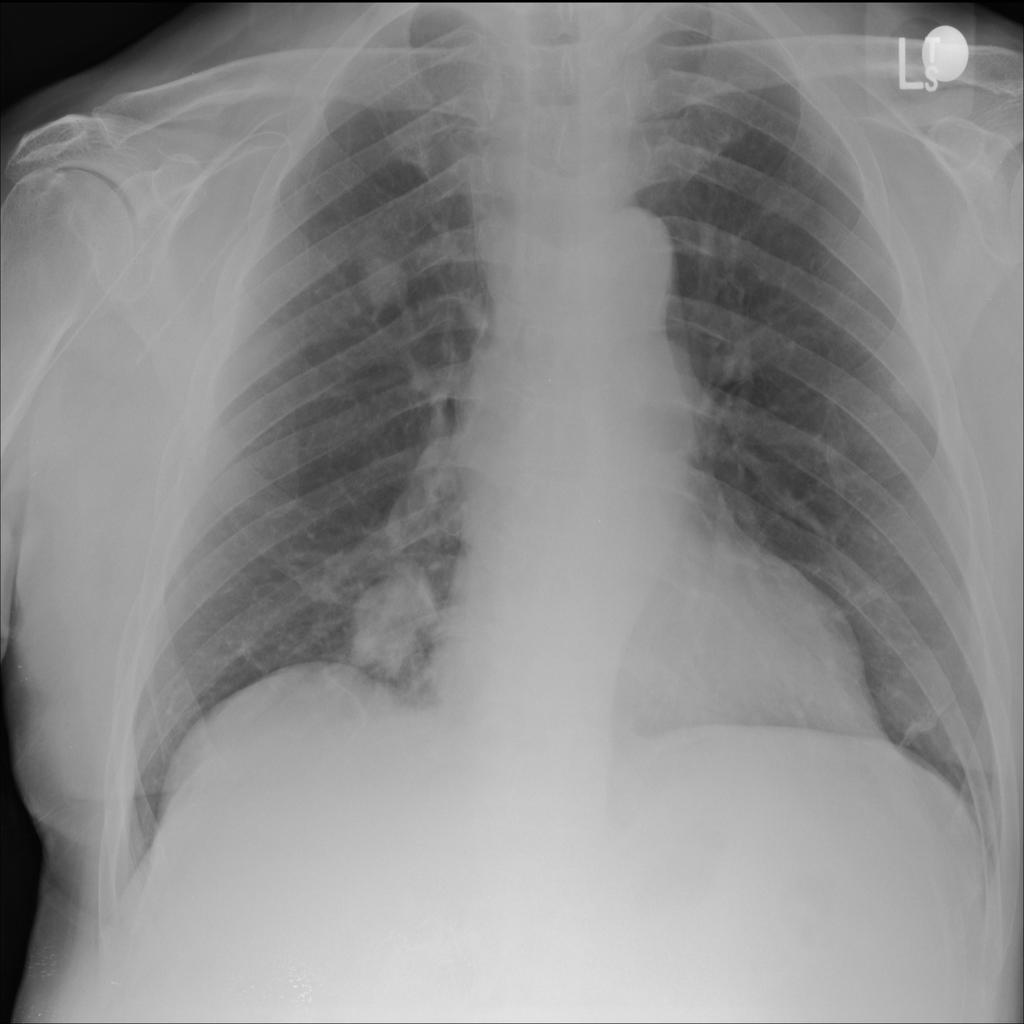nodule: (331, 558, 449, 696), (863, 637, 985, 759), (346, 233, 417, 322), (874, 352, 941, 426)
